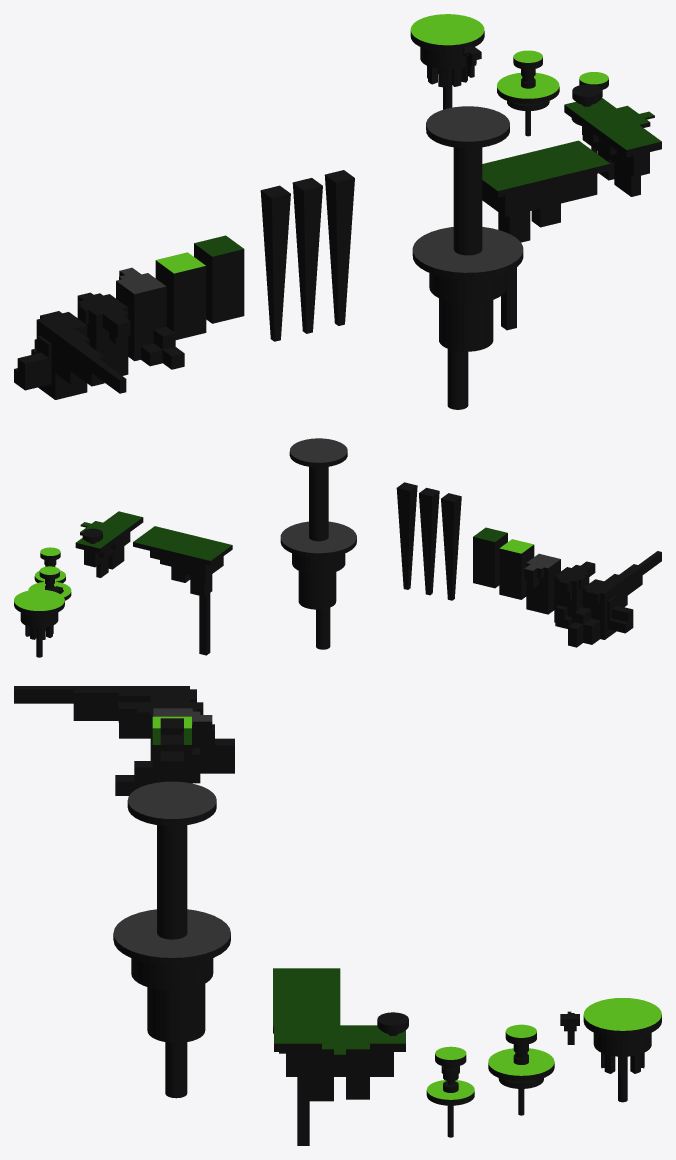
The model's file is beginning.obj.
3 renders of one model, top to bottom at view 1: azimuth 30°, elevation 25°; view 2: azimuth 150°, elevation 25°; view 3: azimuth 270°, elevation 25°, orthographic. The views are drawn at different scales.
Parts seen in each view (by area): view 1: Cylinder.004, Cube.002_Cube.003, Cube.010_Cube.011, Cube.001_Cube.002, Cube.008_Cube.009, Cylinder, Cube.007_Cube.008, Cube.006_Cube.007, Cube.005_Cube.006, Cube.003_Cube.004, Cube.004_Cube.005, Cube.009_Cube.010 (+1 smaller); view 2: Cylinder.004, Cube.002_Cube.003, Cube.010_Cube.011, Cube.001_Cube.002, Cylinder, Cube.009_Cube.010, Cube.008_Cube.009, Cube.007_Cube.008, Cube.006_Cube.007, Cube.003_Cube.004, Cube.004_Cube.005, Cube.005_Cube.006 (+2 smaller); view 3: Cylinder.004, Cube.001_Cube.002, Cube.010_Cube.011, Cylinder, Cube.002_Cube.003, Cylinder.001, Cylinder.002, Cube.008_Cube.009, Cube.009_Cube.010, Cube.006_Cube.007, Cube.003_Cube.004.
Part boxes in pixels (x1,y1,x2,y2): Cylinder.004: (412,106,523,409); Cube.002_Cube.003: (482,140,610,330); Cube.010_Cube.011: (14,311,126,399); Cube.001_Cube.002: (564,98,661,196); Cube.008_Cube.009: (116,267,184,369); Cylinder: (410,14,484,109); Cube.007_Cube.008: (155,252,206,339); Cube.006_Cube.007: (194,235,244,323); Cube.005_Cube.006: (292,178,322,333); Cube.003_Cube.004: (324,170,354,325); Cube.004_Cube.005: (260,185,290,341); Cube.009_Cube.010: (77,292,130,375); Cylinder.004: (280,438,356,649); Cube.002_Cube.003: (133,526,232,655); Cube.010_Cube.011: (568,551,661,647); Cube.001_Cube.002: (75,511,143,577); Cylinder: (14,589,64,657); Cube.009_Cube.010: (554,561,595,628); Cube.008_Cube.009: (524,553,560,614); Cube.007_Cube.008: (499,539,534,599); Cube.006_Cube.007: (473,527,507,588); Cube.003_Cube.004: (396,482,417,589); Cube.004_Cube.005: (441,493,461,600); Cube.005_Cube.006: (419,487,439,595); Cylinder.004: (113,781,230,1098); Cube.001_Cube.002: (274,1025,405,1101); Cube.010_Cube.011: (14,686,234,773); Cylinder: (583,998,661,1102); Cube.002_Cube.003: (273,968,340,1145); Cylinder.001: (488,1024,554,1115); Cylinder.002: (426,1046,474,1137); Cube.008_Cube.009: (115,708,212,795); Cube.009_Cube.010: (118,697,203,783); Cube.006_Cube.007: (152,728,191,783); Cube.003_Cube.004: (160,751,183,781).
Bounding box in the file's own units: 227 × 83.78 × 165.
